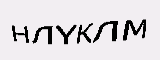К: (74, 21, 93, 44)
Л: (94, 19, 119, 44), (30, 23, 54, 45)
М: (119, 18, 150, 42)
Н: (7, 20, 30, 42)
Ү: (54, 21, 75, 46)
